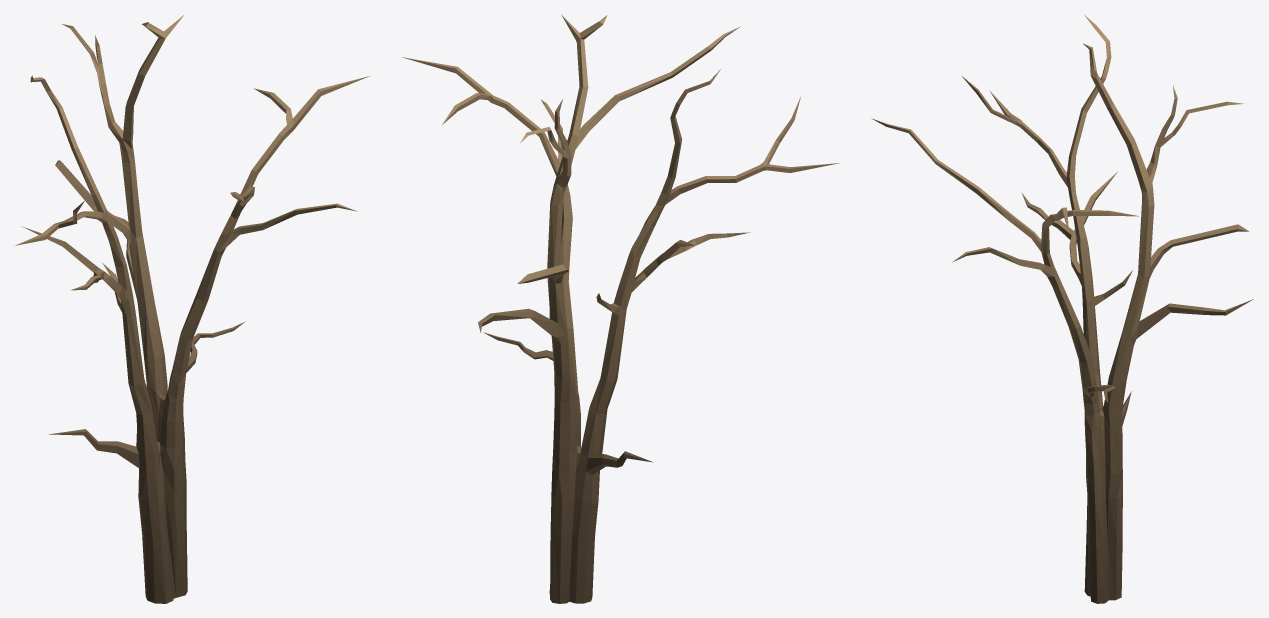
Rendered from ZLP_Plant_L_3.FBX.
3 renders of one model, left to right at view 1: azimuth 30°, elevation 25°; view 2: azimuth 150°, elevation 25°; view 3: azimuth 270°, elevation 25°, orthographic. The views are drawn at different scales.
Parts seen in each view (by area): view 1: ZLP_Plant_L_3; view 2: ZLP_Plant_L_3; view 3: ZLP_Plant_L_3.
Boxes of the visible parts, x1,y1,x2,y2 form: ZLP_Plant_L_3: [14, 15, 370, 603]; ZLP_Plant_L_3: [401, 15, 839, 603]; ZLP_Plant_L_3: [871, 15, 1253, 603].
Bounding box in the file's own units: 664 × 928 × 599.
